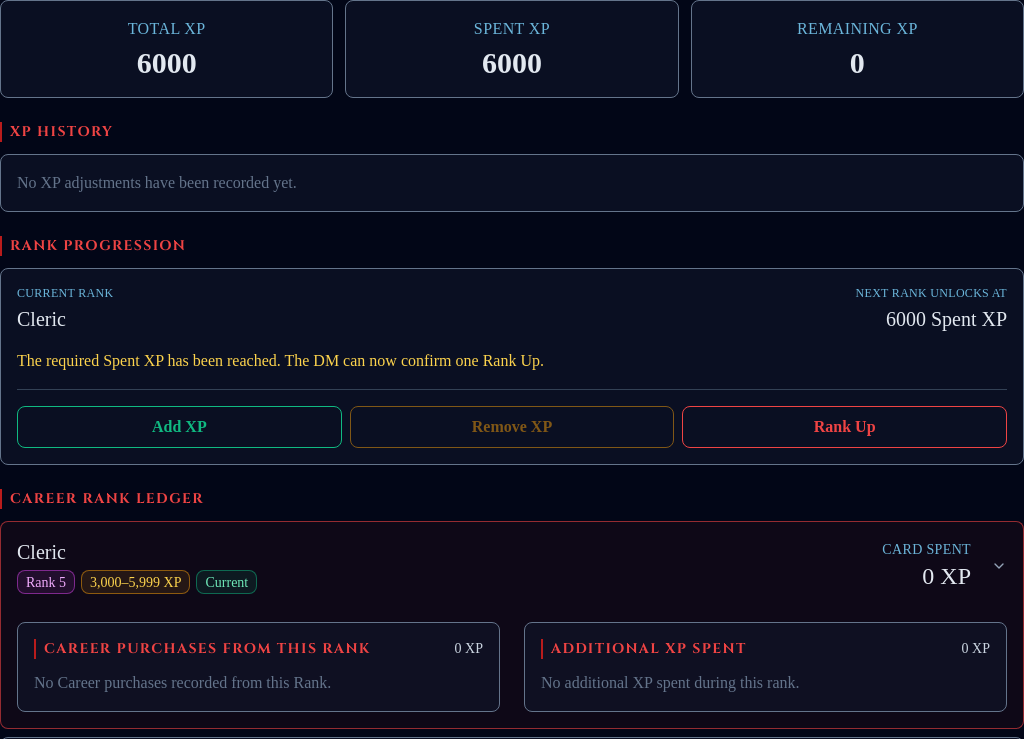
ExperienceTab Rank type picker › opens the Rank type picker after a Career path is chosen at a branch
Click the button "Rank Up".
click(845, 427)  # box [682,406,1007,448]
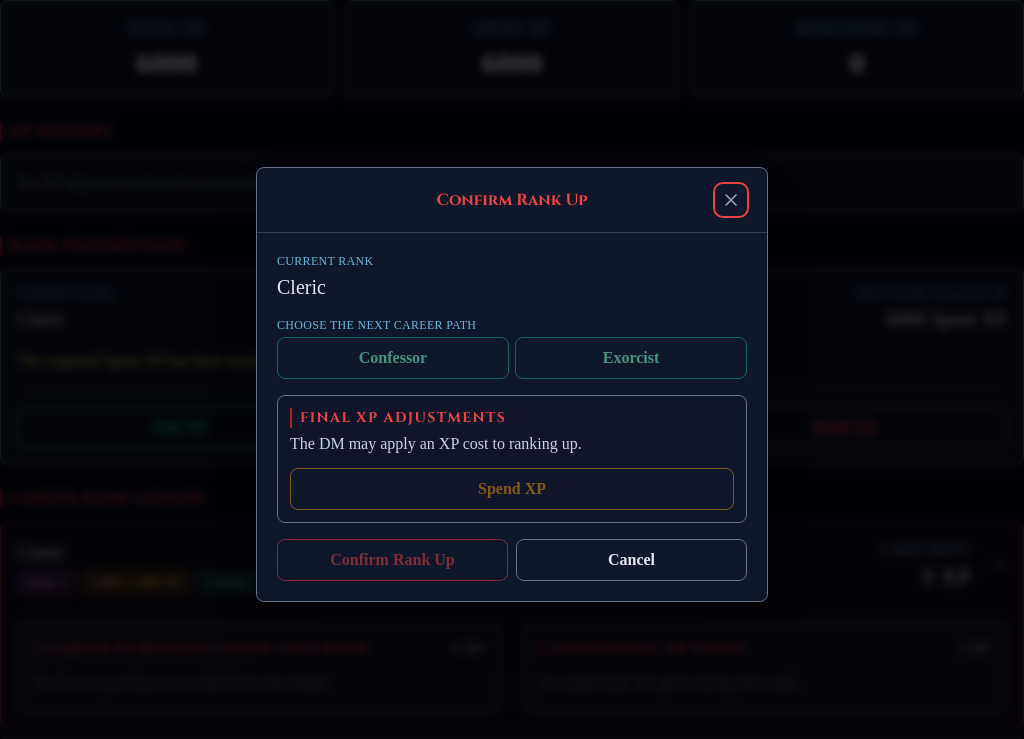
Expected: the dialog "Choose Rank Type" is not shown
Click the button "Exorcist".
click(631, 358)  # box [515,336,747,378]
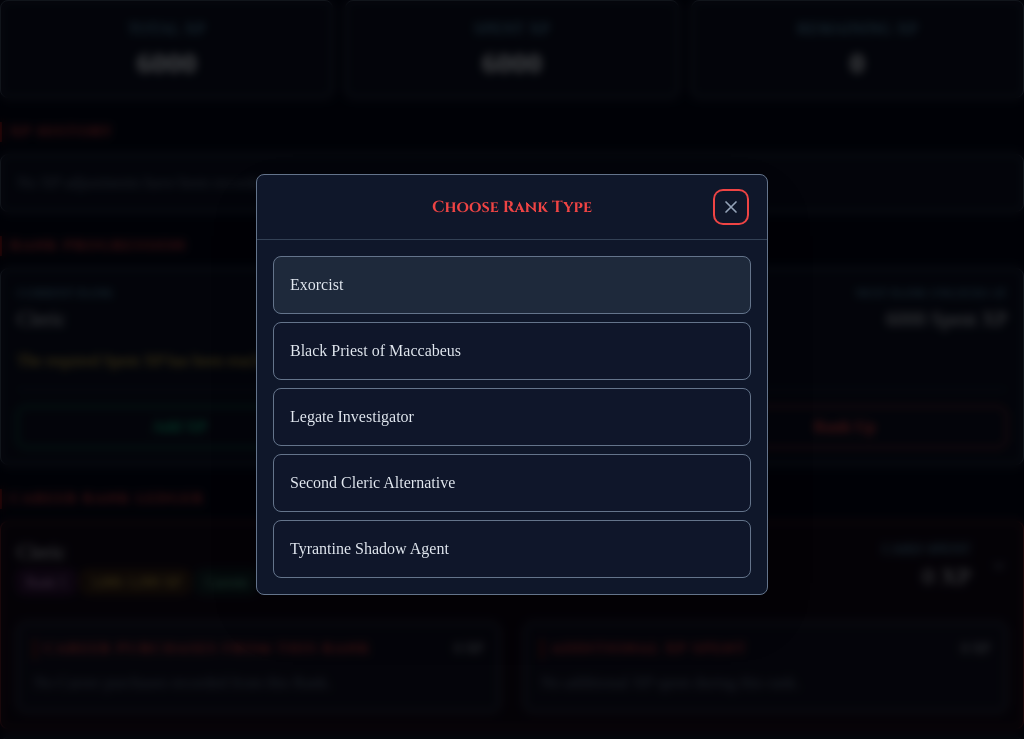
Expected: the button "Exorcist" is shown, [273,256,751,314]
Expected: the button "Black Priest of Maccabeus" is shown, [273,322,751,380]
Expected: the button "Second Cleric Alternative" is shown, [273,454,751,512]
